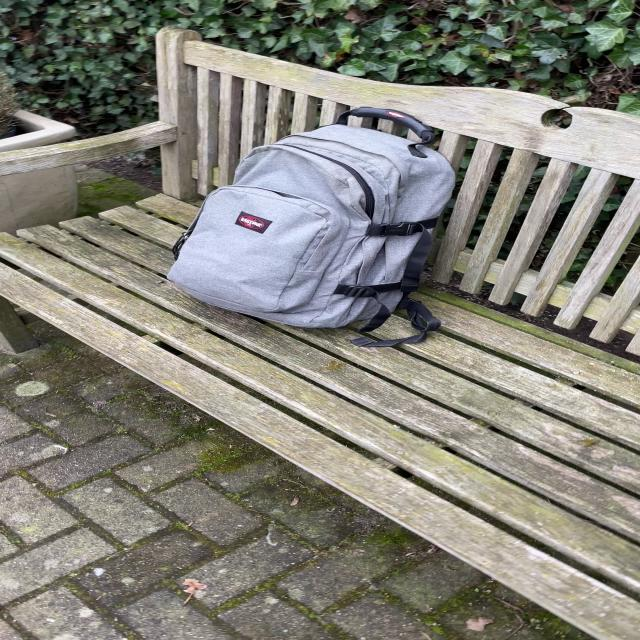backpack: (154, 105, 465, 332)
